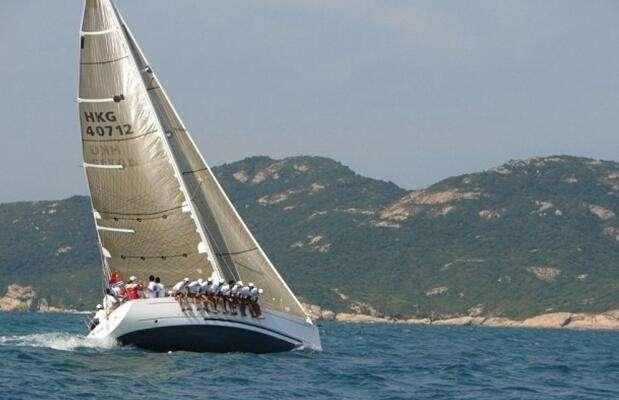fanchuan: (72, 2, 326, 343)
